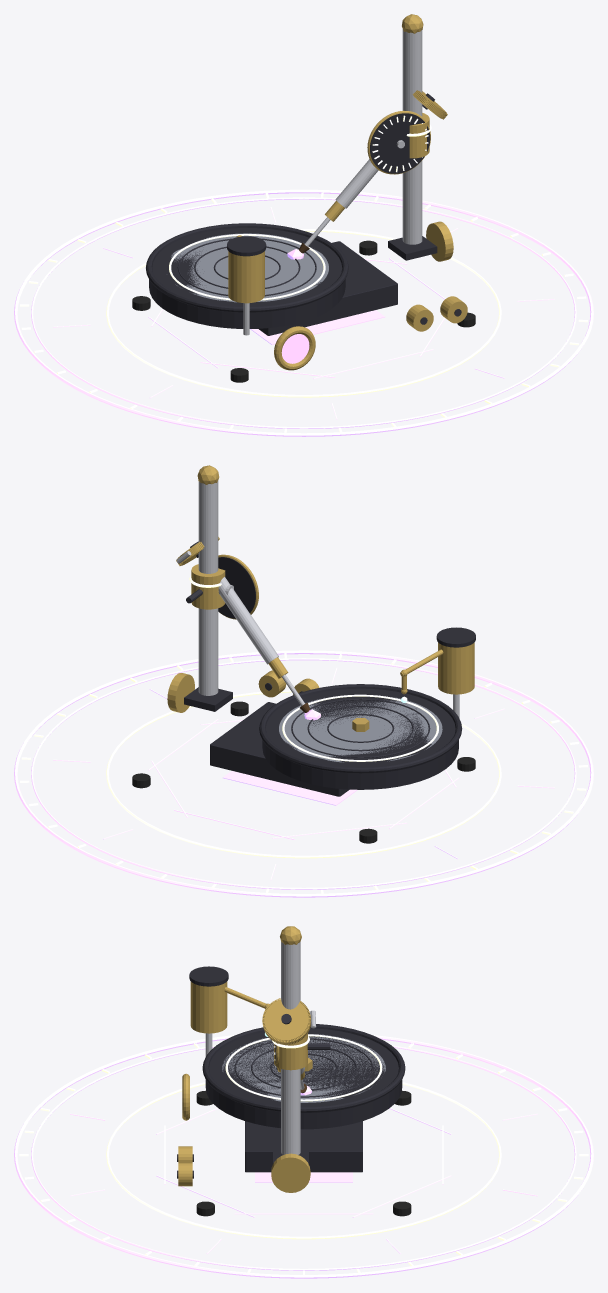
Rendered from gem_faceting_machine.glb.
The picture shows the model from 3 angles, top to bottom: view 1: azimuth 30°, elevation 25°; view 2: azimuth 150°, elevation 25°; view 3: azimuth 270°, elevation 25°; orthographic projection.
Parts seen in each view (by area): view 1: PanWall, MC_RingOuter, LapDisk, Base, MC_RingOuter2, Mast, PanRim, MC_RingInner, ProtractorDial, DripTank, UnderGlow, CrystalPort (+9 smaller); view 2: PanWall, LapDisk, MC_RingOuter, Mast, Base, MC_RingOuter2, PanRim, MC_RingInner, DripTank, Quill, UnderGlow, ProtractorDial (+8 smaller); view 3: PanWall, MC_RingOuter, Base, LapDisk, Mast, MC_RingOuter2, PanRim, MC_RingInner, DripTank, IndexGear, HeightWheel, RuneRing (+6 smaller).
Part boxes in pixels (x1,y1,x2,y2): PanWall: [149, 228, 345, 325]; MC_RingOuter: [14, 189, 593, 436]; LapDisk: [171, 233, 328, 302]; Base: [258, 241, 397, 335]; MC_RingOuter2: [31, 197, 576, 428]; Mast: [402, 29, 422, 244]; PanRim: [146, 223, 348, 312]; MC_RingInner: [106, 229, 501, 397]; ProtractorDial: [370, 113, 430, 173]; DripTank: [228, 251, 264, 303]; UnderGlow: [250, 310, 384, 344]; CrystalPort: [274, 326, 315, 370]; PanWall: [262, 688, 458, 787]; LapDisk: [279, 695, 442, 762]; MC_RingOuter: [14, 650, 593, 897]; Mast: [198, 480, 218, 695]; Base: [210, 702, 349, 796]; MC_RingOuter2: [31, 658, 576, 889]; PanRim: [259, 684, 462, 773]; MC_RingInner: [106, 690, 501, 858]; DripTank: [438, 642, 474, 694]; Quill: [218, 577, 278, 664]; UnderGlow: [223, 771, 357, 805]; ProtractorDial: [218, 557, 255, 618]; PanWall: [205, 1028, 402, 1127]; MC_RingOuter: [14, 1035, 593, 1278]; Base: [245, 1121, 362, 1172]; LapDisk: [222, 1034, 385, 1102]; Mast: [281, 941, 300, 1154]; MC_RingOuter2: [31, 1045, 576, 1270]; PanRim: [202, 1024, 405, 1112]; MC_RingInner: [106, 1082, 501, 1239]; DripTank: [190, 981, 227, 1033]; IndexGear: [264, 999, 308, 1042]; HeightWheel: [271, 1153, 310, 1192]; RuneRing: [225, 1034, 382, 1101].
Size of the model in its own units: 0.8856 by 0.472 by 0.8856.
